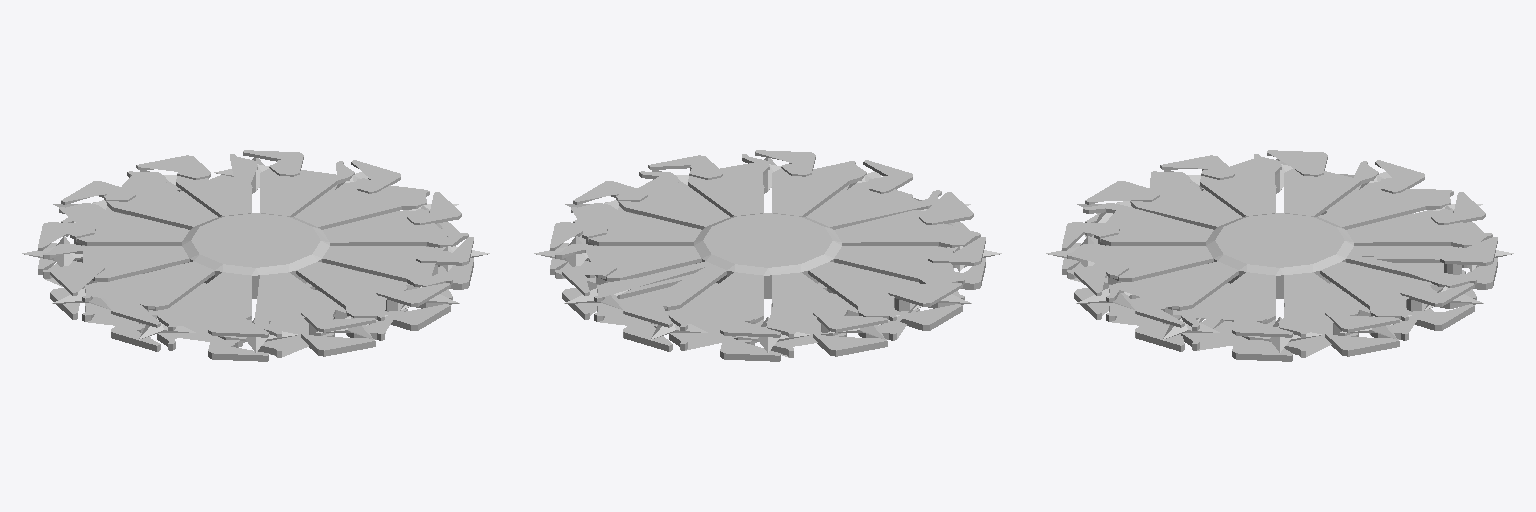
File: edisk.obj
3 views of the same model, side by side, from view 1: azimuth 30°, elevation 25°; view 2: azimuth 150°, elevation 25°; view 3: azimuth 270°, elevation 25° (orthographic).
Visible parts, largest first — view 1: ESL.001; view 2: ESL.001; view 3: ESL.001.
Boxes of the visible parts, <box> form: ESL.001: <box>22,150,489,361</box>; ESL.001: <box>534,150,1001,361</box>; ESL.001: <box>1046,150,1513,361</box>.
Size of the model in its own units: 10.8 by 0.7865 by 10.8.